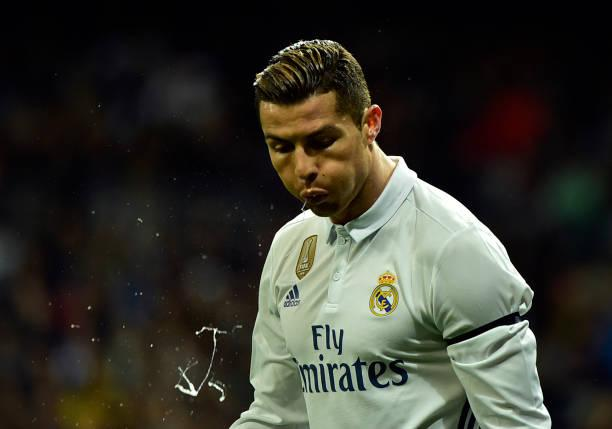Spitting: (228, 41, 410, 229)
